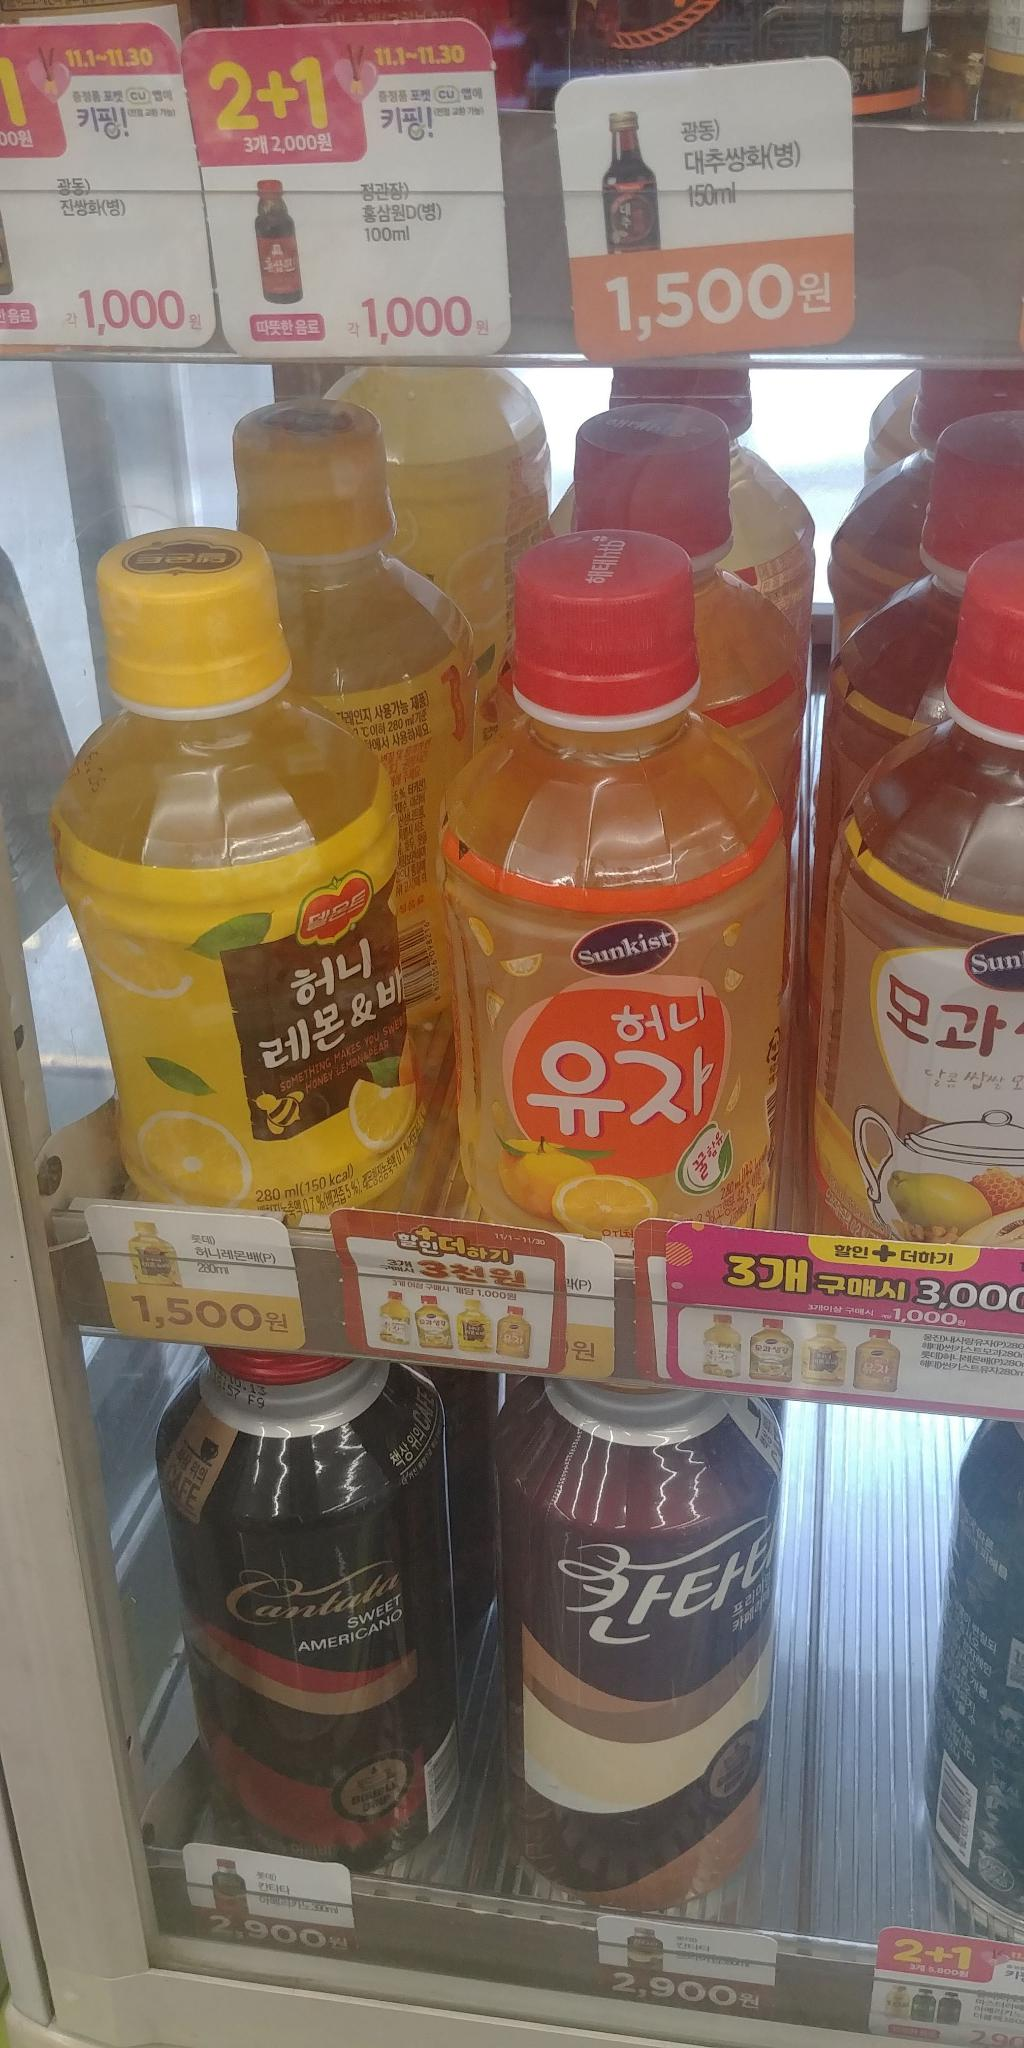honeyyuja: (411, 524, 812, 1272)
